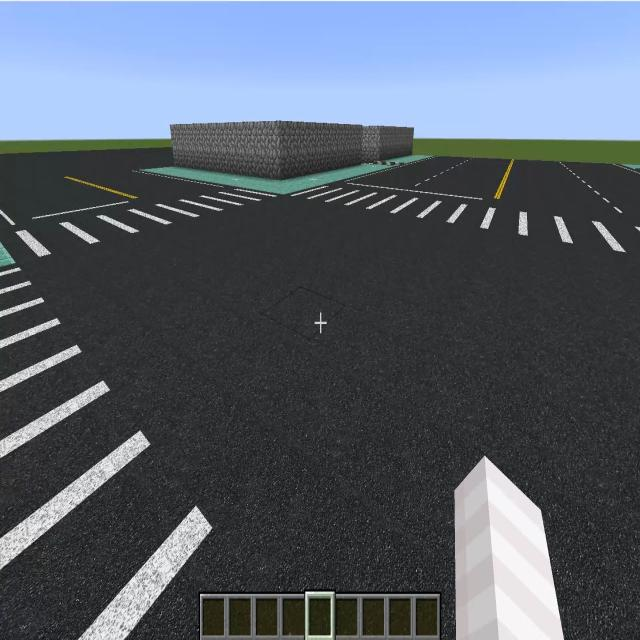crosswalk: (1, 261, 265, 634), (298, 182, 640, 256), (6, 188, 278, 258)
road: (27, 197, 640, 639), (2, 150, 225, 229), (367, 156, 639, 210)
sidewalk: (143, 164, 389, 194), (0, 244, 14, 267)
